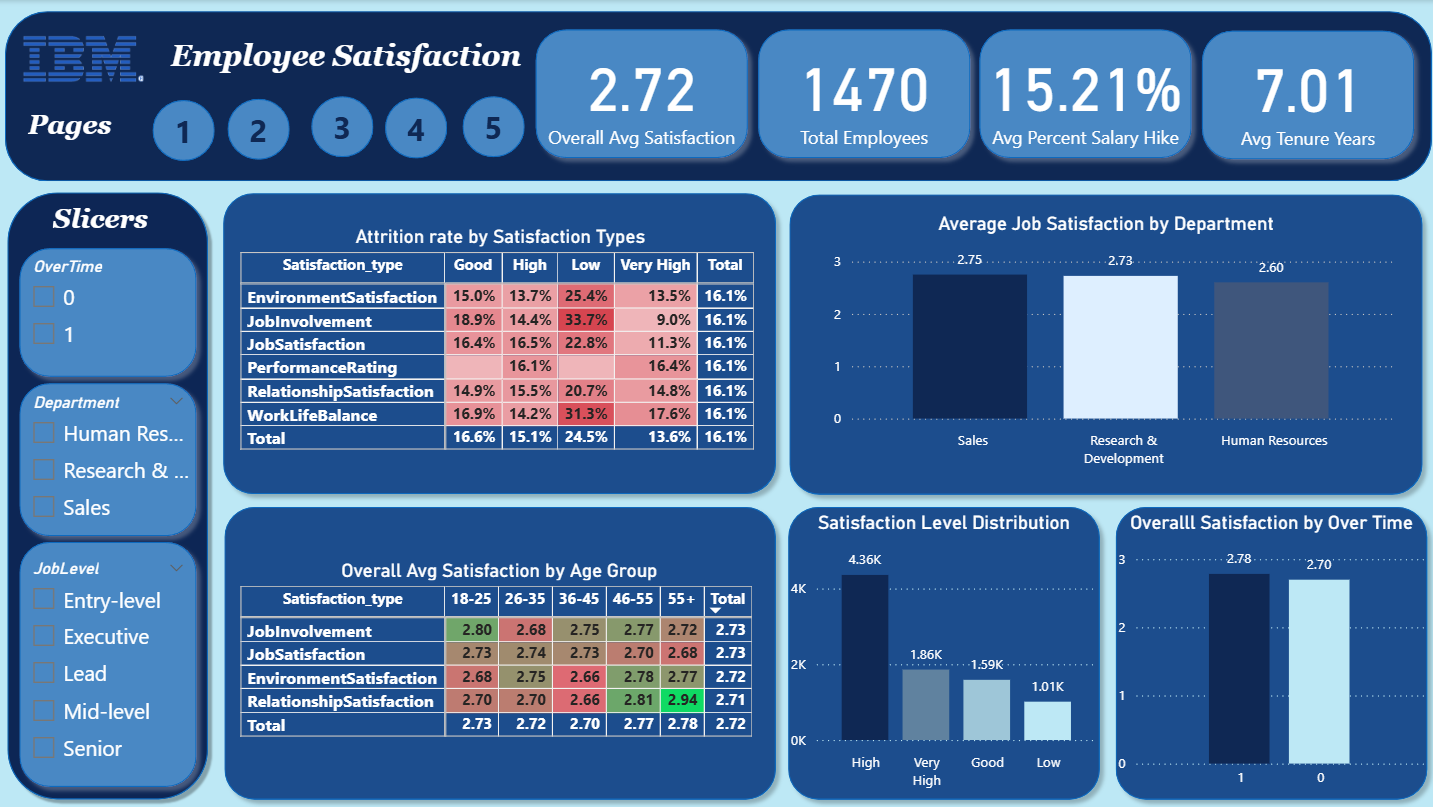

Layout of this report page (visuals, bound fields, positions):
{"tool":"powerbi","page":{"name":"Employee Satisfaction","canvas":[1280,720],"ordinal":2},"visuals":[{"type":"shape","box":[4.1,9.5,1270.8,151.6],"z":0},{"type":"shape","box":[136.3,89.3,55.5,54.3],"z":0,"group":"g14"},{"type":"image","box":[15.7,9.7,117,83.2],"z":1000},{"type":"shape","box":[202.7,88.1,55.5,54.3],"z":1000,"group":"g14"},{"type":"shape","box":[468.1,18.1,205.8,131.4],"z":1500,"group":"g2"},{"type":"shape","box":[665.7,18.1,205.8,131.4],"z":1500,"group":"g4"},{"type":"shape","box":[863.4,18.1,205.8,131.4],"z":1500,"group":"g6"},{"type":"shape","box":[1061,19.5,205.8,131.4],"z":1500,"group":"g8"},{"type":"shape","box":[190.6,164.1,509.1,284.7],"z":1500,"group":"g9"},{"type":"shape","box":[694.3,165.1,580.6,284.2],"z":1500,"group":"g13"},{"type":"shape","box":[8.4,212.3,174.5,131.4],"z":1500,"group":"g3"},{"type":"shape","box":[8.4,333,174.5,153],"z":1500,"group":"g5"},{"type":"shape","box":[191.8,442.8,507.9,277.5],"z":1500,"group":"g11"},{"type":"shape","box":[693.7,442.8,294.4,277.5],"z":1500,"group":"g12"},{"type":"shape","box":[985.7,442.8,294.4,277.5],"z":1500,"group":"g10"},{"type":"shape","box":[8.4,474.1,174.5,235],"z":1500,"group":"g7"},{"type":"textbox","box":[147.2,29,375.2,60.3],"z":2000},{"type":"shape","box":[277.5,85.7,55.5,54.3],"z":2000,"group":"g14"},{"type":"shape","box":[343.8,86.9,55.5,54.3],"z":3000,"group":"g14"},{"type":"textbox","box":[20.5,92.9,105,43.4],"z":3000},{"type":"shape","box":[412.6,85.7,55.5,54.3],"z":4000,"group":"g14"},{"type":"shape","box":[0,165.3,191.8,553.8],"z":4000},{"type":"pivotTable","title":"Attrition rate by Satisfaction Types","fields":{"Rows":["Dim_Satisfaction_type.Satisfaction_type"],"Columns":["Fact_Satisfaction_Analysis.Satisfaction_level"],"Values":["Avg(Fact_Satisfaction_Analysis.Attrition)"]},"box":[209.1,201,472.7,218.7],"z":4000,"group":"g9"},{"type":"clusteredColumnChart","title":"Satisfaction Level Distribution","fields":{"Category":["Fact_Satisfaction_Analysis.Satisfaction_level"],"Y":["CountNonNull(Fact_Satisfaction_Analysis.Satisfaction)"]},"box":[699.5,454.7,283.3,254.9],"z":4000,"group":"g12"},{"type":"clusteredColumnChart","title":"Overalll Satisfaction by Over Time","fields":{"Category":["Fact_Emp_Metrics.OverTime"],"Y":["_measures.Overall Avg Satisfaction"]},"box":[991.5,454.7,283.3,254.9],"z":4000,"group":"g10"},{"type":"pivotTable","title":"Overall Avg Satisfaction by Age Group","fields":{"Rows":["Dim_Satisfaction_type.Satisfaction_type"],"Columns":["Dim_Employee.AgeGroup"],"Values":["_measures.Overall Avg Satisfaction"]},"box":[209.6,497.3,471,212.5],"z":4000,"group":"g11"},{"type":"group","id":"g1","title":"Group 3","box":[468.1,18.1,798.7,132.7],"z":5000},{"type":"card","fields":{"Values":["_measures.Avg Job Satisfaction"]},"box":[476.8,28.9,188.3,109.7],"z":5001,"group":"g2"},{"type":"card","fields":{"Values":["_measures.Total Employees"]},"box":[674.4,28.9,188.3,109.7],"z":5001,"group":"g4"},{"type":"card","fields":{"Values":["_measures.Avg Percent Salary Hike"]},"box":[872.1,28.9,188.3,109.7],"z":5001,"group":"g6"},{"type":"card","fields":{"Values":["_measures.Avg Tenure Years"]},"box":[1069.7,30.3,188.3,109.7],"z":5001,"group":"g8"},{"type":"slicer","fields":{"Values":["Fact_Emp_Metrics.OverTime"]},"box":[15.8,223.1,159.7,109.7],"z":5001,"group":"g3"},{"type":"slicer","fields":{"Values":["Dim_Department.Department"]},"box":[15.8,345.6,159.7,127.8],"z":5001,"group":"g5"},{"type":"slicer","fields":{"Values":["Dim_JobLevel.JobLevel"]},"box":[15.8,493.5,159.7,196.2],"z":5001,"group":"g7"},{"type":"group","id":"g2","title":"Group 2","box":[468.1,18.1,205.8,131.4],"z":6000,"group":"g1"},{"type":"group","id":"g3","title":"Group 2","box":[8.4,212.3,174.9,131.5],"z":6000},{"type":"group","id":"g4","title":"Group 2","box":[665.7,18.1,205.8,131.4],"z":7000,"group":"g1"},{"type":"group","id":"g5","title":"Group 2","box":[8.4,333,174.9,153.2],"z":7000},{"type":"group","id":"g6","title":"Group 2","box":[863.4,18.1,205.8,131.4],"z":8000,"group":"g1"},{"type":"group","id":"g7","title":"Group 2","box":[8.4,474.1,174.9,235.3],"z":8000},{"type":"group","id":"g8","title":"Group 2","box":[1061,19.5,205.8,131.4],"z":9000,"group":"g1"},{"type":"textbox","box":[42.2,176.1,105,43.4],"z":9000},{"type":"group","id":"g9","title":"Group 1","box":[190.6,164.1,509.1,284.7],"z":11000},{"type":"group","id":"g10","title":"Group 1","box":[985.7,442.8,294.4,277.5],"z":12000},{"type":"group","id":"g11","title":"Group 1","box":[191.8,442.8,507.9,277.5],"z":13000},{"type":"clusteredColumnChart","title":"Average Job Satisfaction by  Department","fields":{"Category":["Dim_Department.Department"],"Y":["Avg(Fact_Emp_Metrics.Job_Satisfaction_key)"]},"box":[722.1,189.1,525.1,234.7],"z":13001,"group":"g13"},{"type":"group","id":"g12","title":"Group 1","box":[693.7,442.8,294.4,277.5],"z":14000},{"type":"group","id":"g13","title":"Group 4","box":[694.3,165.1,580.6,284.2],"z":15000},{"type":"group","id":"g14","title":"Group 5","box":[136.3,85.7,331.8,57.9],"z":15001}]}

Visuals, with their boxes in screenshot pixels (x1, y1, x2, y2), scaled from the page's 1280x720 canvas onto the 1433x807 screenshot:
shape: 5 11 1427 181
shape: 153 100 215 161
image: 18 11 149 104
shape: 227 99 289 160
shape: 524 20 754 168
shape: 745 20 976 168
shape: 967 20 1197 168
shape: 1188 22 1418 169
shape: 213 184 783 503
shape: 777 185 1427 504
shape: 9 238 205 385
shape: 9 373 205 545
shape: 215 496 783 806
shape: 777 496 1106 806
shape: 1104 496 1432 806
shape: 9 531 205 795
textbox: 165 33 585 100
shape: 311 96 373 157
shape: 385 97 447 158
textbox: 23 104 141 153
shape: 462 96 524 157
shape: 0 185 215 806
"Attrition rate by Satisfaction Types" pivotTable: 234 225 763 470
"Satisfaction Level Distribution" clusteredColumnChart: 783 510 1100 795
"Overalll Satisfaction by Over Time" clusteredColumnChart: 1110 510 1427 795
"Overall Avg Satisfaction by Age Group" pivotTable: 235 557 762 796
"Group 3" group: 524 20 1418 169
card - _measures.Avg Job Satisfaction: 534 32 745 155
card - _measures.Total Employees: 755 32 966 155
card - _measures.Avg Percent Salary Hike: 976 32 1187 155
card - _measures.Avg Tenure Years: 1198 34 1408 157
slicer - Fact_Emp_Metrics.OverTime: 18 250 196 373
slicer - Dim_Department.Department: 18 387 196 531
slicer - Dim_JobLevel.JobLevel: 18 553 196 773
"Group 2" group: 524 20 754 168
"Group 2" group: 9 238 205 385
"Group 2" group: 745 20 976 168
"Group 2" group: 9 373 205 545
"Group 2" group: 967 20 1197 168
"Group 2" group: 9 531 205 795
"Group 2" group: 1188 22 1418 169
textbox: 47 197 165 246
"Group 1" group: 213 184 783 503
"Group 1" group: 1104 496 1432 806
"Group 1" group: 215 496 783 806
"Average Job Satisfaction by  Department" clusteredColumnChart: 808 212 1396 475
"Group 1" group: 777 496 1106 806
"Group 4" group: 777 185 1427 504
"Group 5" group: 153 96 524 161
